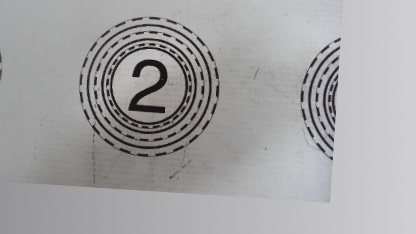2r: (71, 12, 224, 162)
